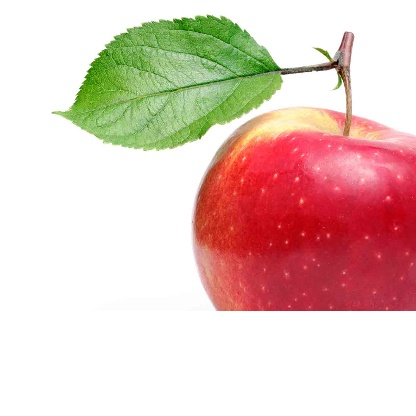tao: (191, 78, 412, 334)
